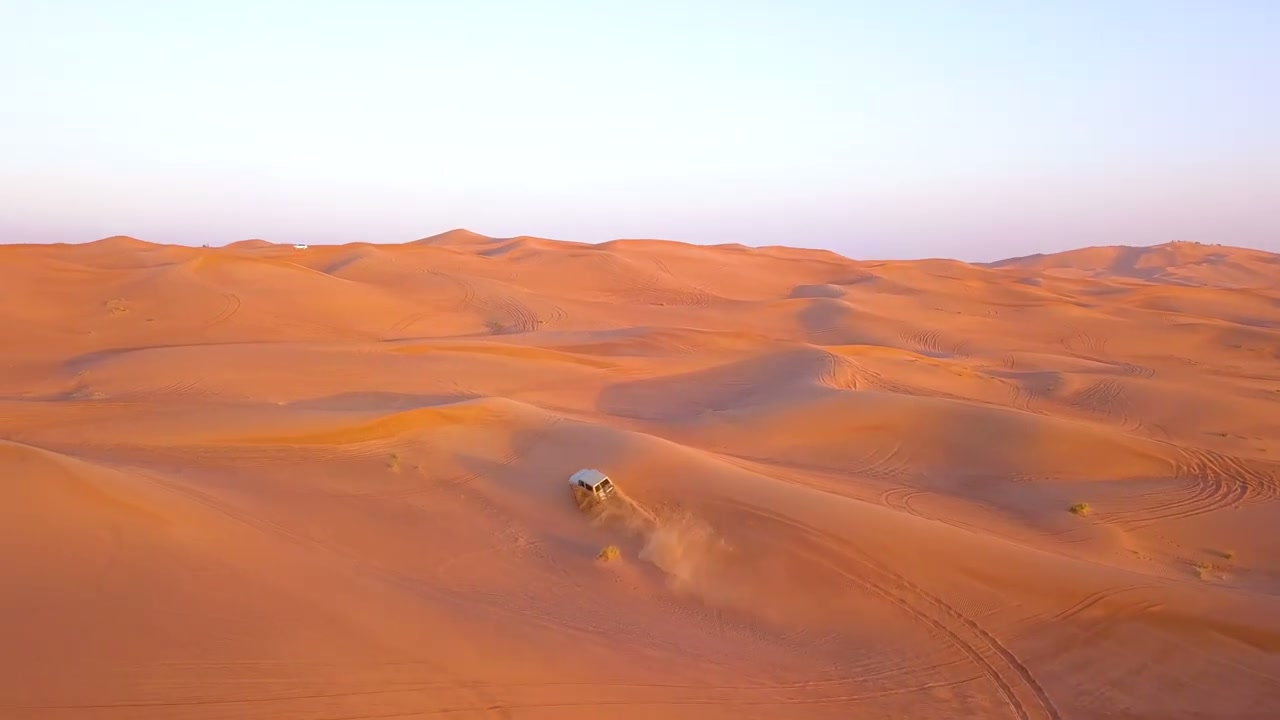vehicle_track: (728, 501, 1060, 719), (1101, 441, 1279, 528)
